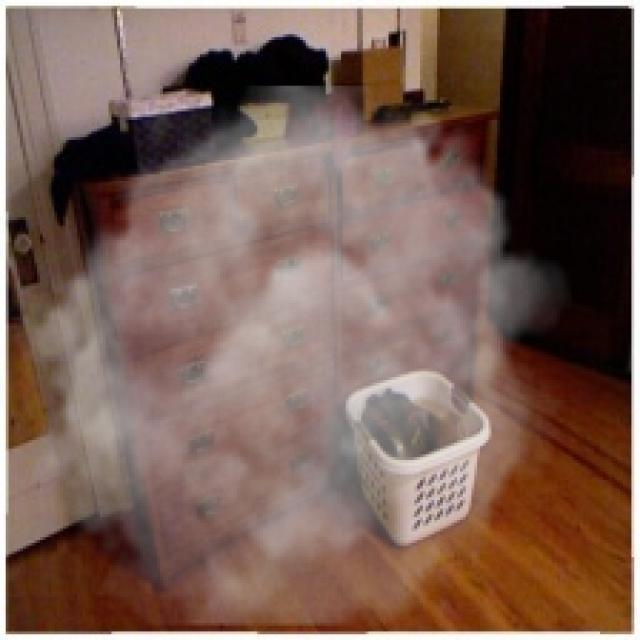Smoke: (9, 85, 572, 626)
